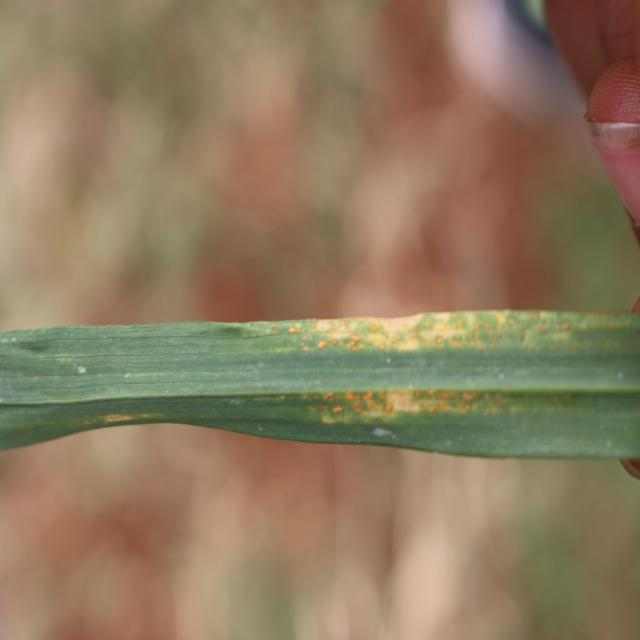Stripe Rust: (276, 319, 505, 360), (322, 389, 514, 432)
